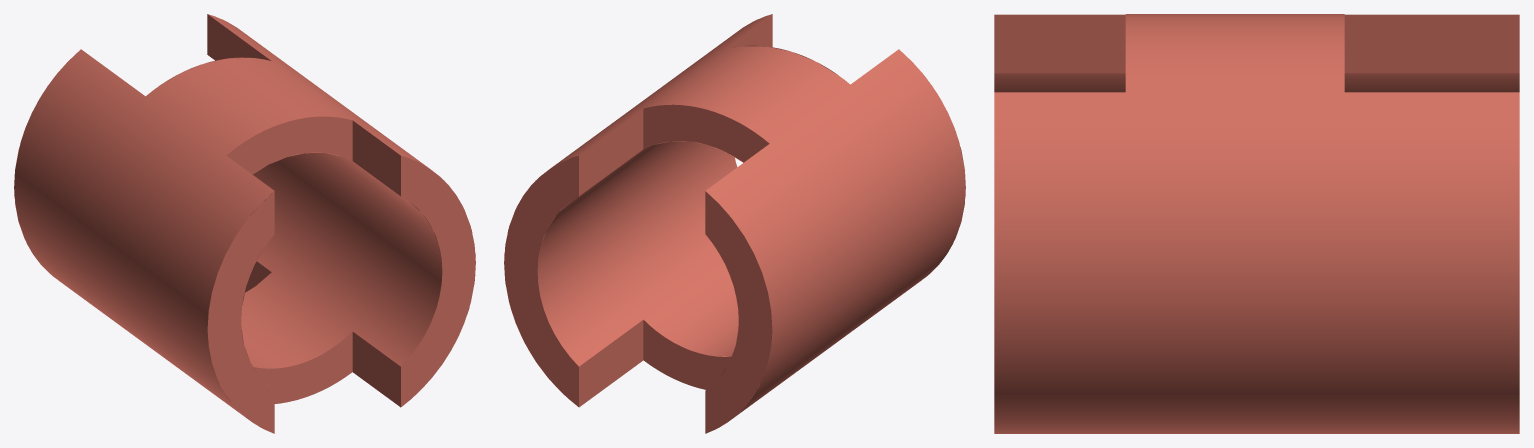
The model's file is yuantongjieduanti.FBX.
3 views of the same model, side by side, from view 1: azimuth 30°, elevation 25°; view 2: azimuth 150°, elevation 25°; view 3: azimuth 270°, elevation 25° (orthographic). The views are drawn at different scales.
Parts seen in each view (by area): view 1: TRM_SRF (×11); view 2: TRM_SRF (×11); view 3: TRM_SRF (×5).
Boxes of the visible parts, left/top/right/bottom form: TRM_SRF (×11): left=14, top=14, right=475, bottom=433; TRM_SRF (×11): left=504, top=14, right=965, bottom=433; TRM_SRF (×5): left=994, top=14, right=1519, bottom=433.
Size of the model in its own units: 31.5 by 31.48 by 39.37.
